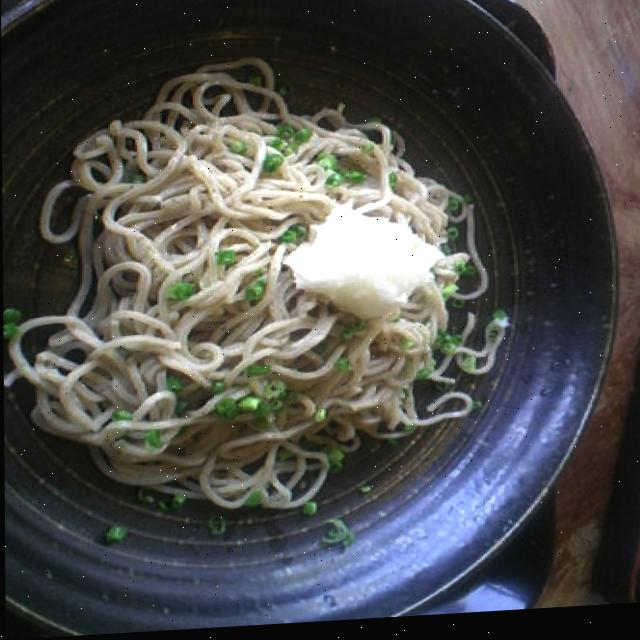面条主食: (1, 0, 624, 640)
